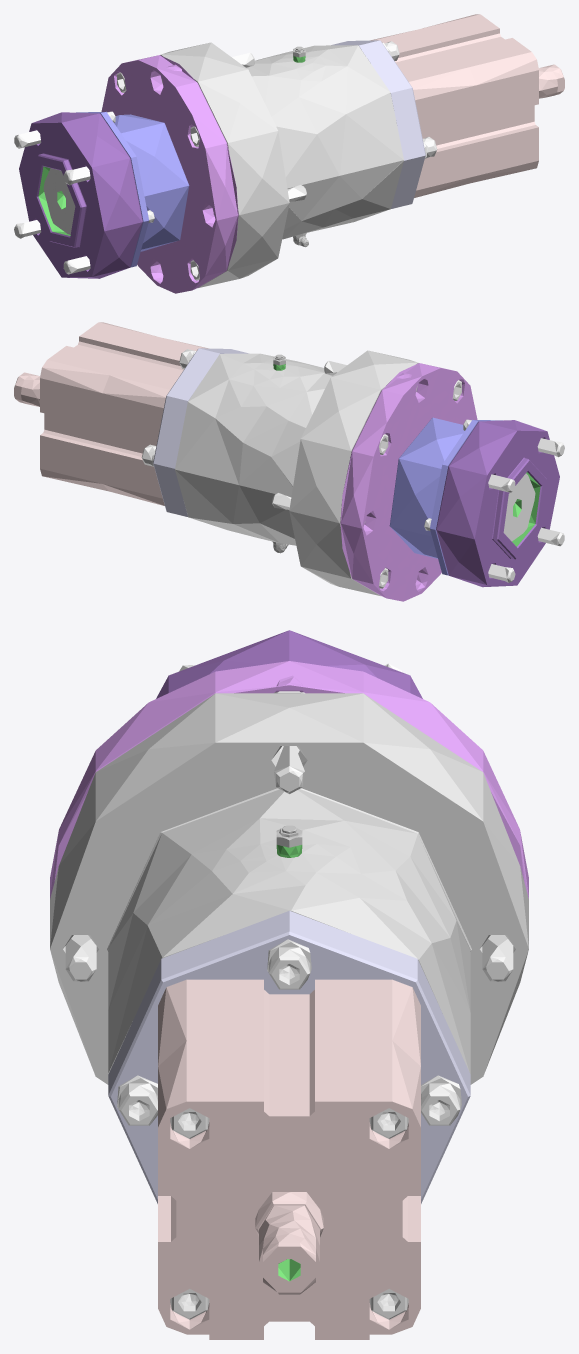
3 renders of one model, top to bottom at view 1: azimuth 30°, elevation 25°; view 2: azimuth 150°, elevation 25°; view 3: azimuth 270°, elevation 25°, orthographic. The views are drawn at different scales.
Visible parts, largest first — view 1: e93f69895e226ec1097c0eeb1b162486fcdf2e8b2c2012b3f2e974b565e8; view 2: e93f69895e226ec1097c0eeb1b162486fcdf2e8b2c2012b3f2e974b565e8; view 3: e93f69895e226ec1097c0eeb1b162486fcdf2e8b2c2012b3f2e974b565e8.
Part boxes in pixels (<box>): e93f69895e226ec1097c0eeb1b162486fcdf2e8b2c2012b3f2e974b565e8: <box>14,14,564,293</box>; e93f69895e226ec1097c0eeb1b162486fcdf2e8b2c2012b3f2e974b565e8: <box>14,322,564,601</box>; e93f69895e226ec1097c0eeb1b162486fcdf2e8b2c2012b3f2e974b565e8: <box>50,630,528,1339</box>.
Bounding box in the file's own units: 2 × 0.8026 × 0.8026.
